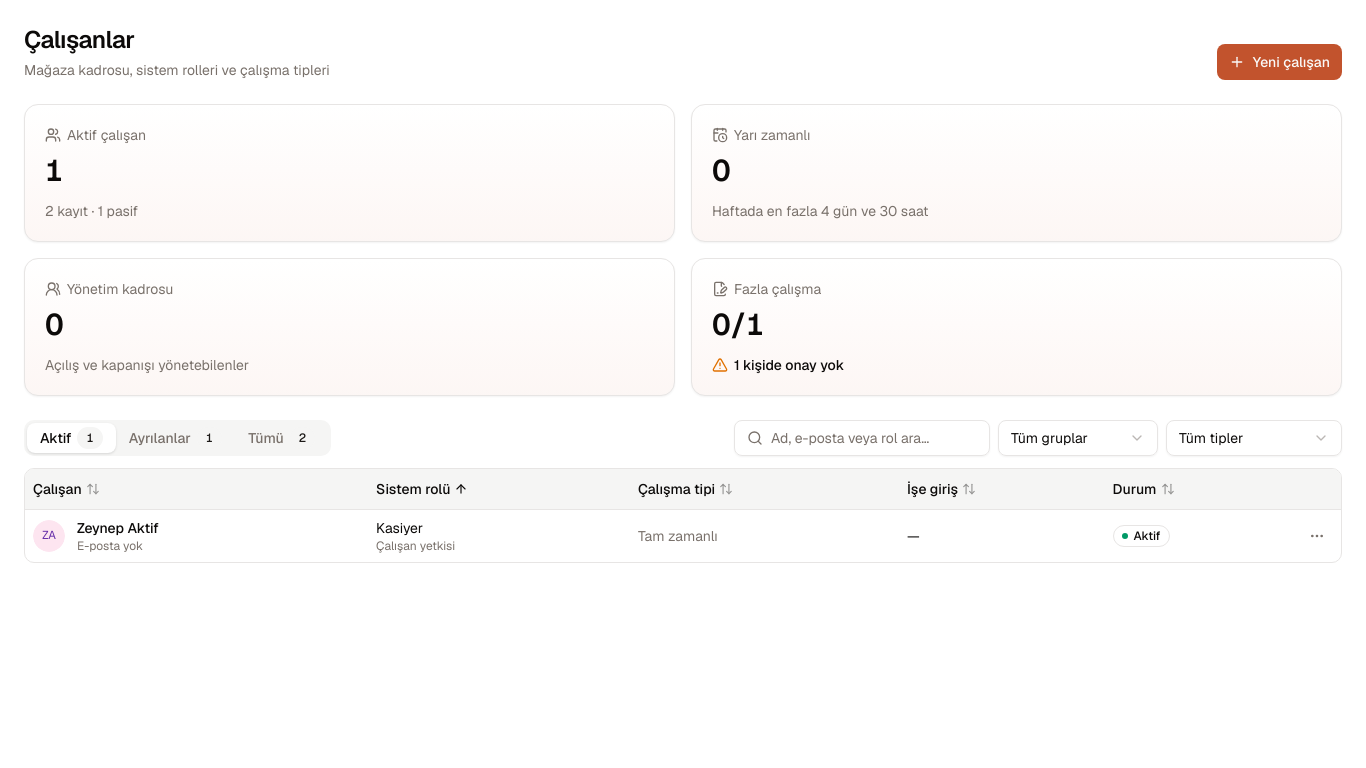
Test: EmployeesPage — pasif çalışan › İşten ayrılan çalışan "Ayrıldı · tarih · neden" chip ile Ayrılanlar sekmesinde görünür
Check: the text "Zeynep Aktif" is shown, box 77,518 -> 159,538
Check: the text "Ahmet Kaya" is not shown
Click the button "Ayrılanlar 1": point(176, 438) 116,423 -> 235,453
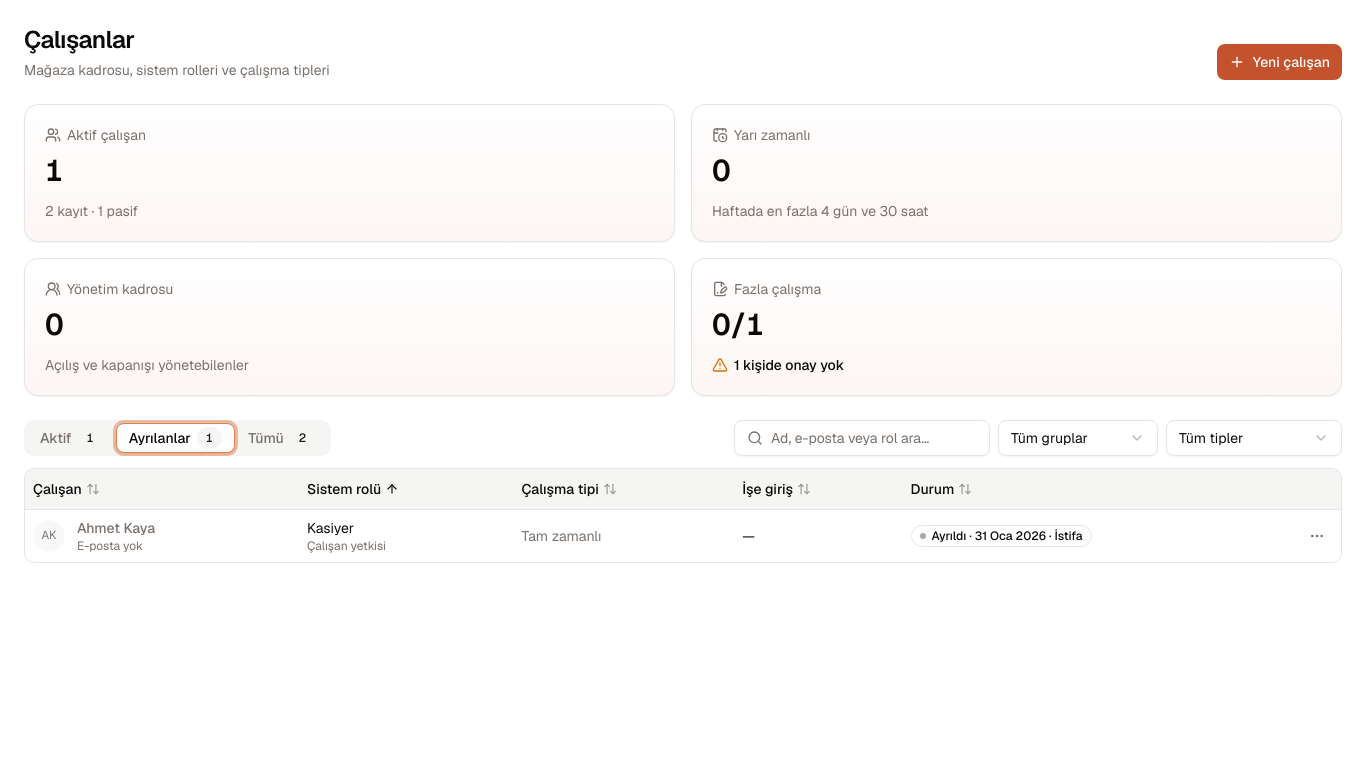
Check: the text "Ahmet Kaya" is shown, box 77,518 -> 155,538
Check: the text "Ayrıldı · 31 Oca 2026 · İstifa" is shown, box 911,525 -> 1092,547
Check: the text "Zeynep Aktif" is gone
